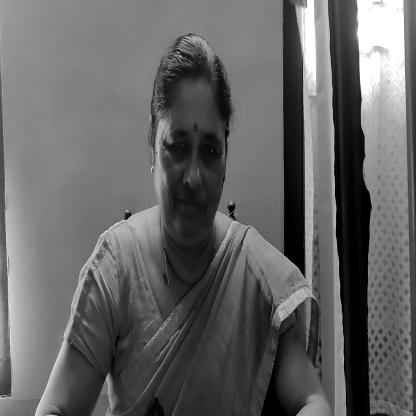Normal: (153, 31, 229, 236)
